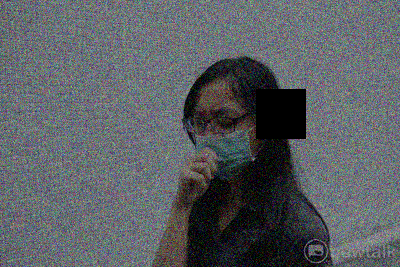with_mask: (191, 105, 258, 183)
